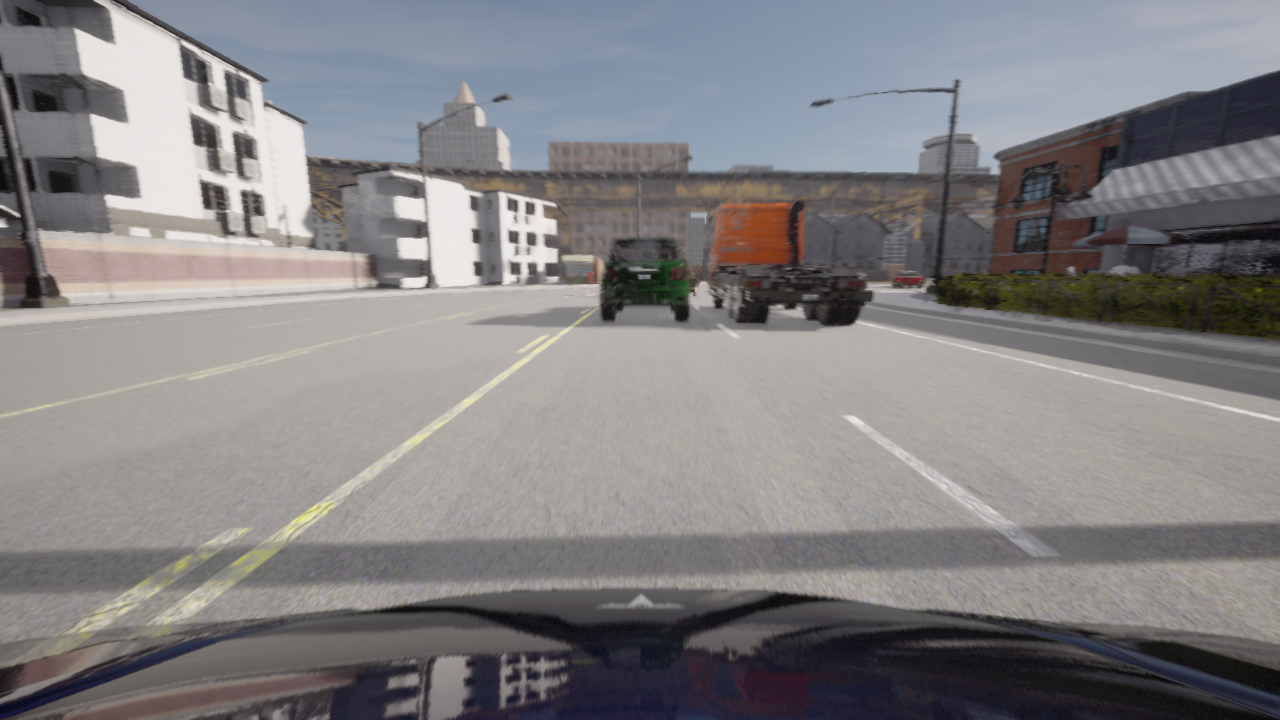cyclist: (0, 588, 1279, 719), (703, 199, 872, 324), (600, 237, 689, 321), (892, 271, 924, 287), (687, 270, 699, 297)
pedestrian: (587, 264, 592, 284)
